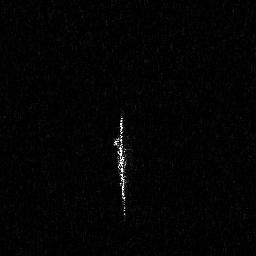ship: (112, 114, 134, 221)
